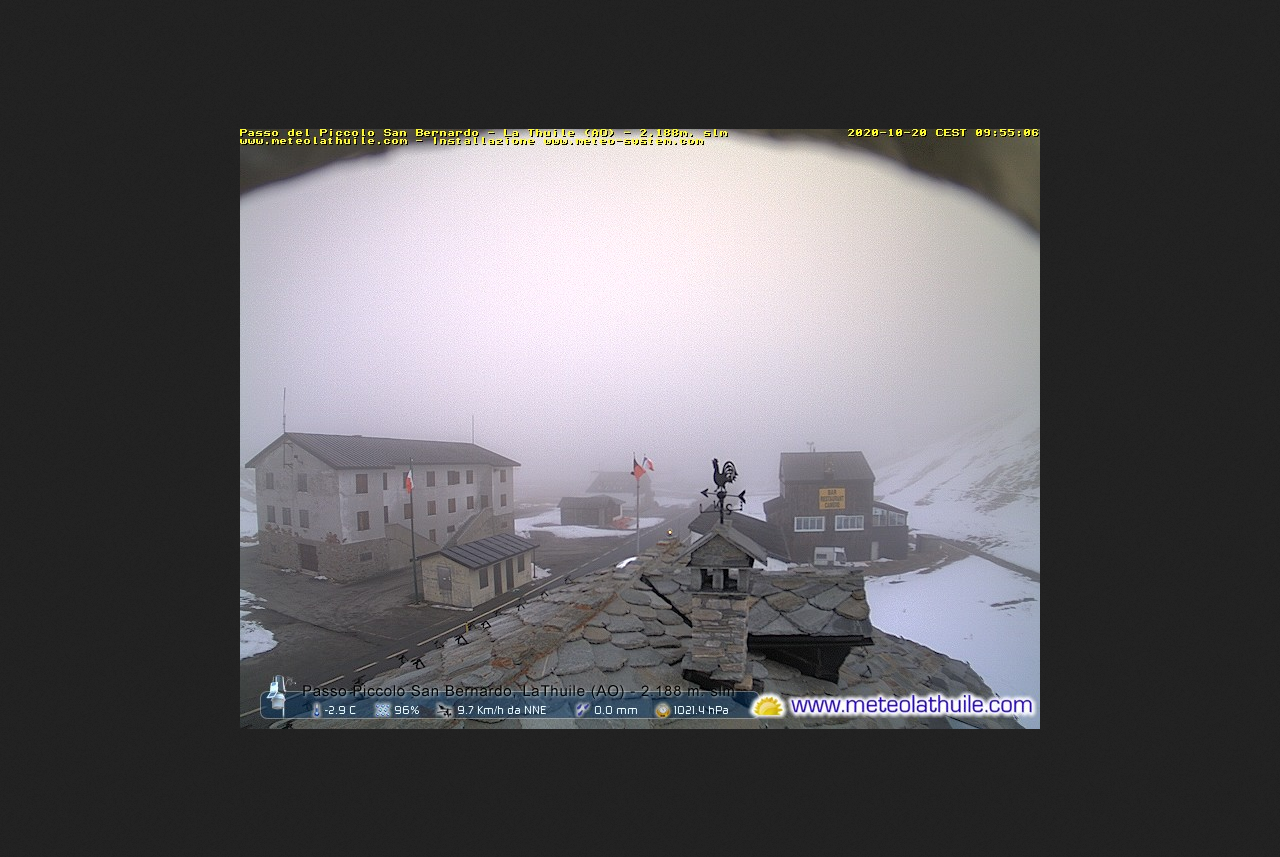yes: (633, 461, 645, 482), (405, 469, 413, 496), (641, 453, 654, 469)
